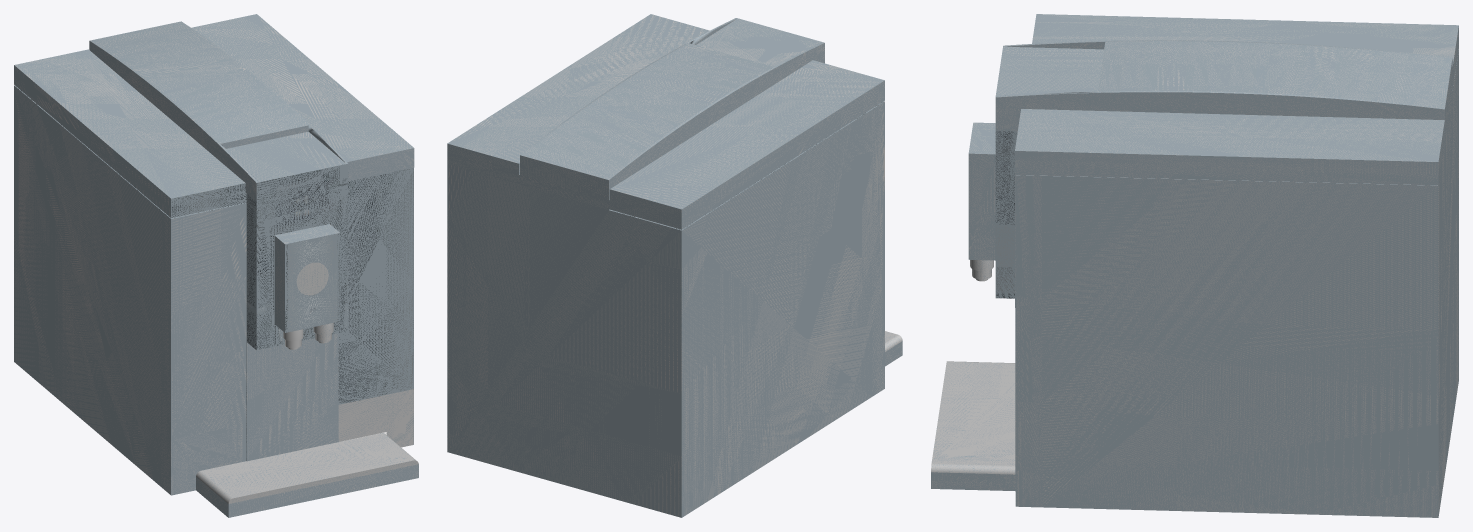
Rendered from CoffeeMachine.dae.
3 renders of one model, left to right at view 1: azimuth 30°, elevation 25°; view 2: azimuth 150°, elevation 25°; view 3: azimuth 270°, elevation 25°, orthographic. The views are drawn at different scales.
Parts seen in each view (by area): view 1: group_0 (×2), group_1; view 2: group_0; view 3: group_0 (×2).
Boxes of the visible parts, <box> form: group_0 (×2): <box>14,14,418,517</box>; group_1: <box>296,262,328,295</box>; group_0: <box>447,14,902,517</box>; group_0 (×2): <box>931,14,1458,517</box>.
Bounding box in the file's own units: 12.12 × 18.23 × 14.36.
